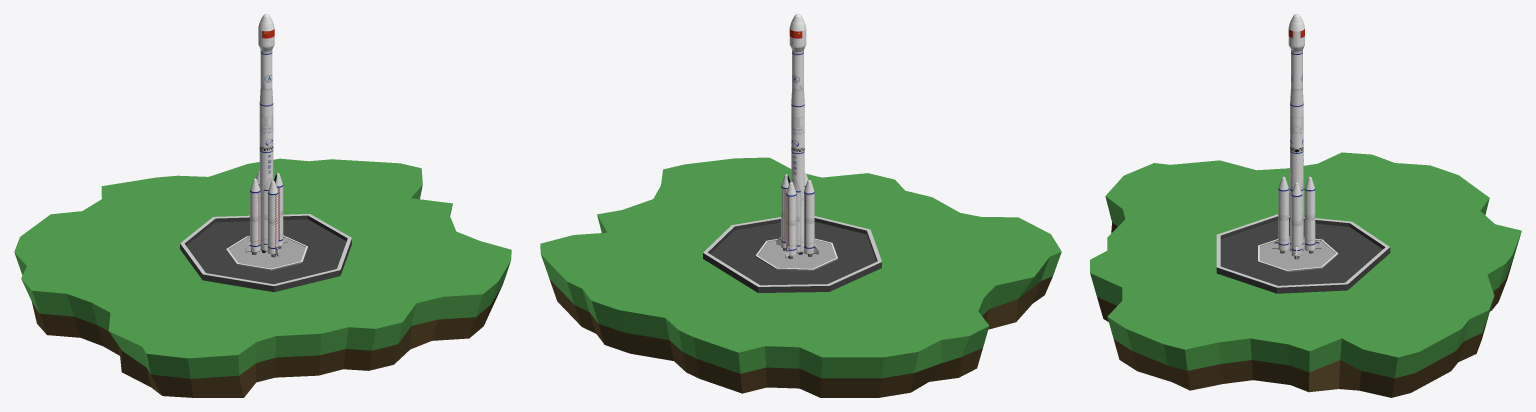
The model's file is long-march-3b.gltf.
3 renders of one model, left to right at view 1: azimuth 30°, elevation 25°; view 2: azimuth 150°, elevation 25°; view 3: azimuth 270°, elevation 25°, orthographic.
Visible parts, largest first — view 1: Cylinder.001, Cylinder.004; view 2: Cylinder.001, Cylinder.004; view 3: Cylinder.001, Cylinder.004.
Part boxes in pixels (<box>): Cylinder.001: <box>14,158,511,397</box>; Cylinder.004: <box>245,14,287,257</box>; Cylinder.001: <box>540,157,1061,397</box>; Cylinder.004: <box>776,14,819,258</box>; Cylinder.001: <box>1090,152,1521,397</box>; Cylinder.004: <box>1272,14,1321,259</box>.
Bounding box in the file's own units: 8.06 × 5.31 × 7.18.
Materials: 10 (1 with a texture image).
